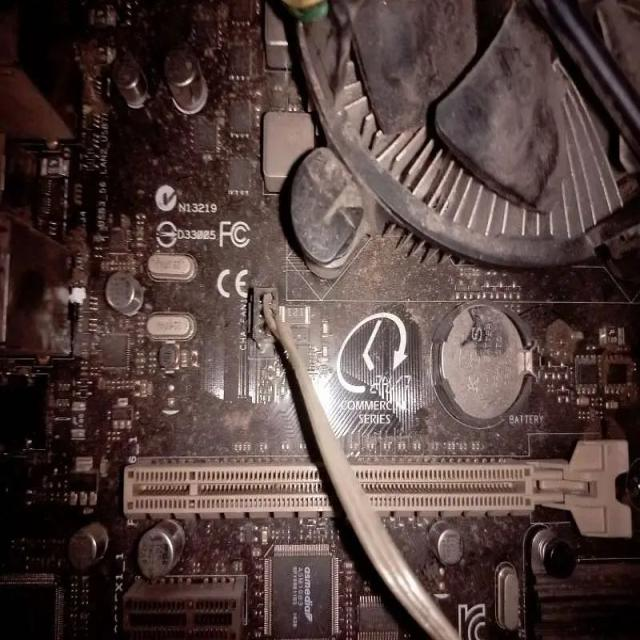electronic: (0, 0, 638, 638)
